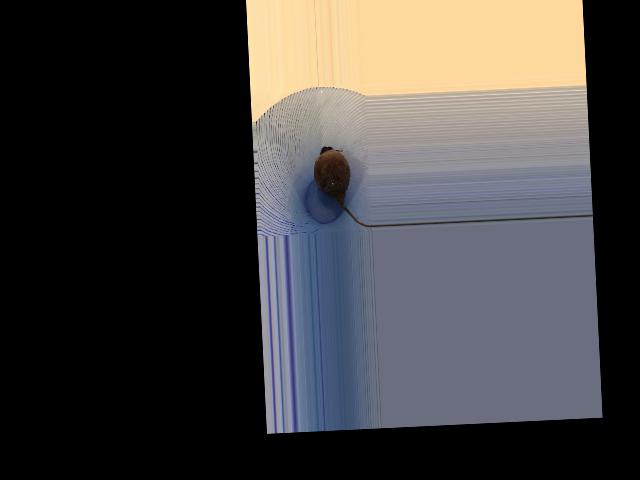beet: (312, 143, 372, 229)
